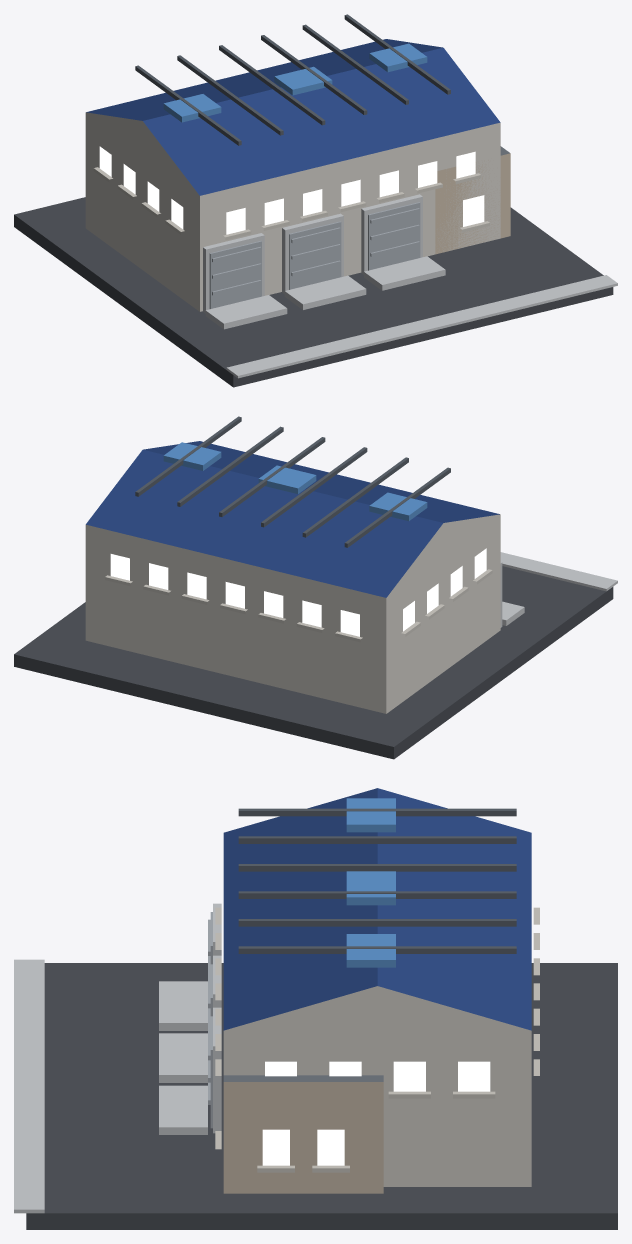
The picture shows the model from 3 angles, top to bottom: view 1: azimuth 30°, elevation 25°; view 2: azimuth 150°, elevation 25°; view 3: azimuth 270°, elevation 25°; orthographic projection. The views are drawn at different scales.
Visible parts, largest first — view 1: b36_v2_lod1; view 2: b36_v2_lod1; view 3: b36_v2_lod1.
Part boxes in pixels (left/top/right/bottom): b36_v2_lod1: left=14, top=14, right=617, bottom=387; b36_v2_lod1: left=14, top=416, right=617, bottom=759; b36_v2_lod1: left=14, top=788, right=617, bottom=1229.
Bounding box in the file's own units: 0.96 × 0.405 × 0.98.
